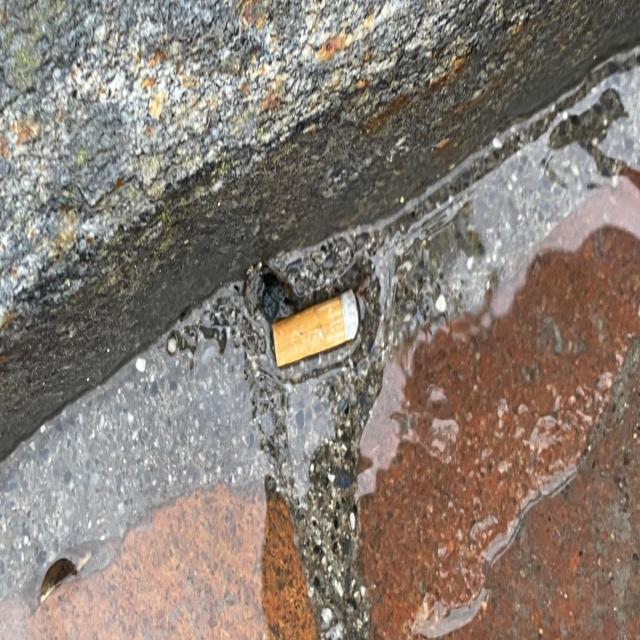other waste: (270, 286, 360, 368)
